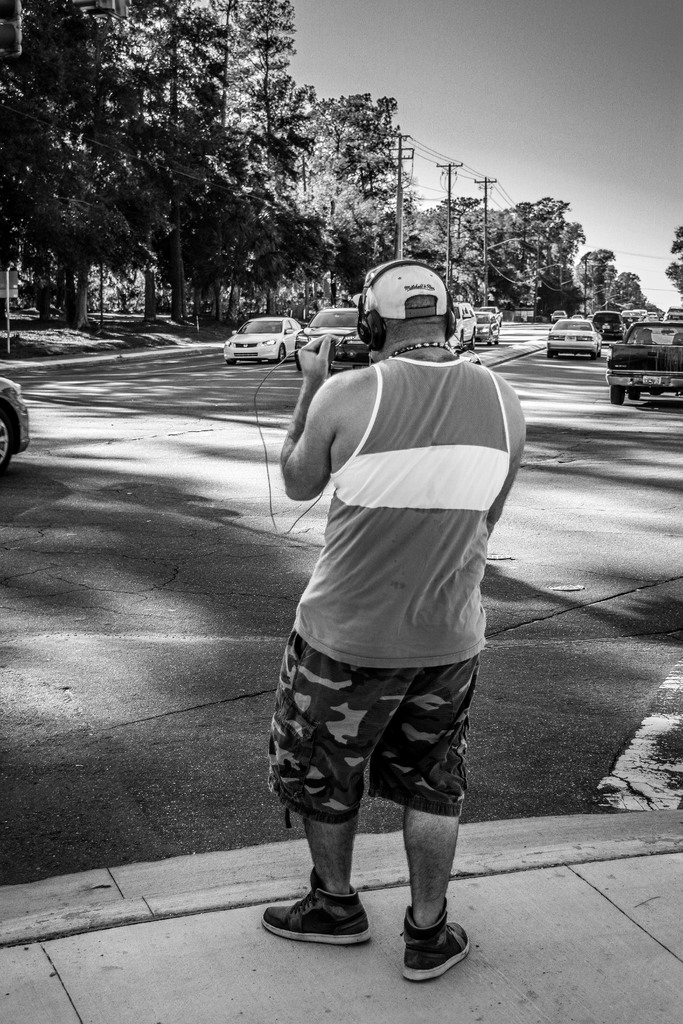Human_hand: (298, 333, 340, 382)
